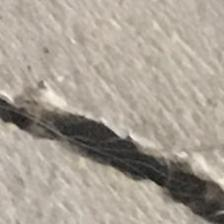Crack: (1, 76, 224, 224)
